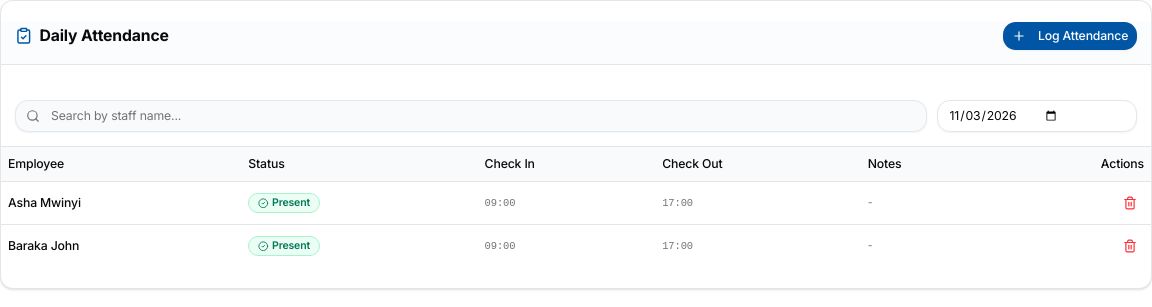
Scenario: HRAttendanceSubtab › filters by staff name search
Step 1. Type "baraka" into the field with placeholder "Search by staff name..." → (471, 116), box x1=15 y1=100 x2=926 y2=132
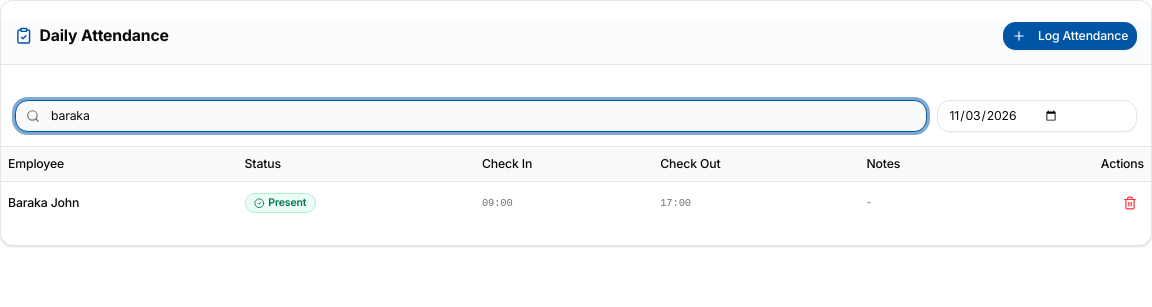
Expected: the text "Baraka John" is shown, x1=1 y1=182 x2=238 y2=224
Now the text "Asha Mwinyi" is gone
